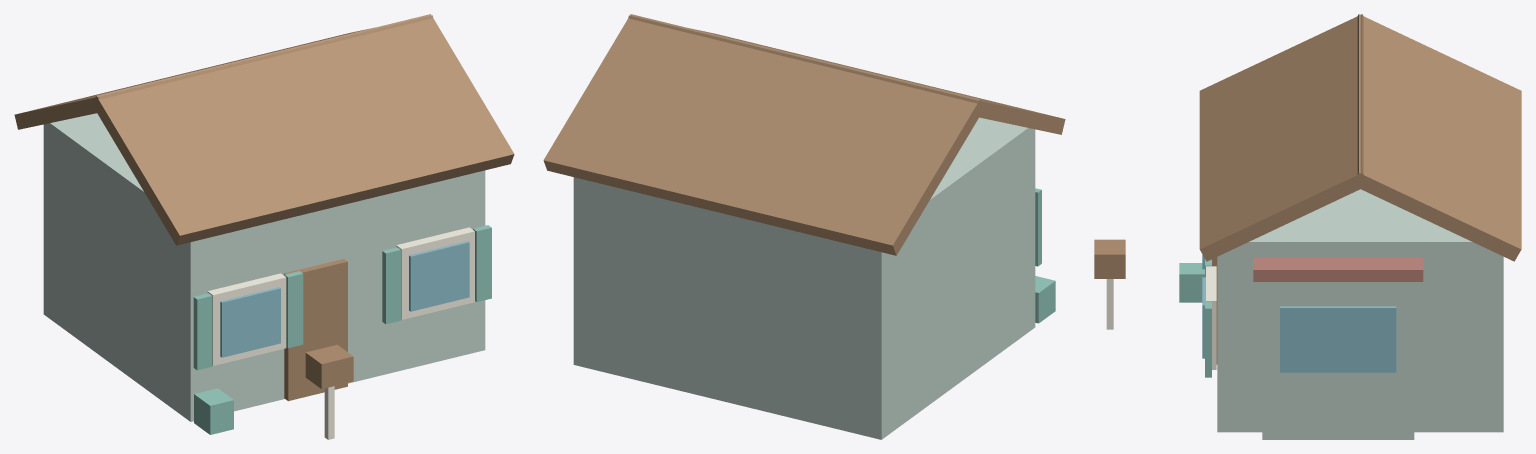
The model's file is home-09.glb.
The picture shows the model from 3 angles, left to right: view 1: azimuth 30°, elevation 25°; view 2: azimuth 150°, elevation 25°; view 3: azimuth 270°, elevation 25°; orthographic projection. The views are drawn at different scales.
Parts seen in each view (by area): view 1: front door.009, individual walls.007, flower planter.007, bay glass, letterbox post.007; view 2: individual walls.007, front door.009, flower planter.007; view 3: front door.009, individual walls.007, bay glass, bay cap, flower planter.007, letterbox post.007.
Part boxes in pixels (x1=…): front door.009: x1=14, y1=14, x2=514, y2=401; individual walls.007: x1=43, y1=113, x2=485, y2=421; flower planter.007: x1=193, y1=225, x2=491, y2=434; bay glass: x1=220, y1=241, x2=469, y2=357; letterbox post.007: x1=207, y1=227, x2=474, y2=439; individual walls.007: x1=573, y1=117, x2=1035, y2=439; front door.009: x1=543, y1=14, x2=1065, y2=255; flower planter.007: x1=1035, y1=188, x2=1055, y2=323; front door.009: x1=1094, y1=14, x2=1521, y2=364; individual walls.007: x1=1217, y1=189, x2=1503, y2=439; bay glass: x1=1202, y1=254, x2=1396, y2=372; bay cap: x1=1253, y1=257, x2=1423, y2=281; flower planter.007: x1=1179, y1=259, x2=1211, y2=377; letterbox post.007: x1=1106, y1=266, x2=1216, y2=369.
Size of the model in its own units: 4.27 by 3.32 by 4.77.
